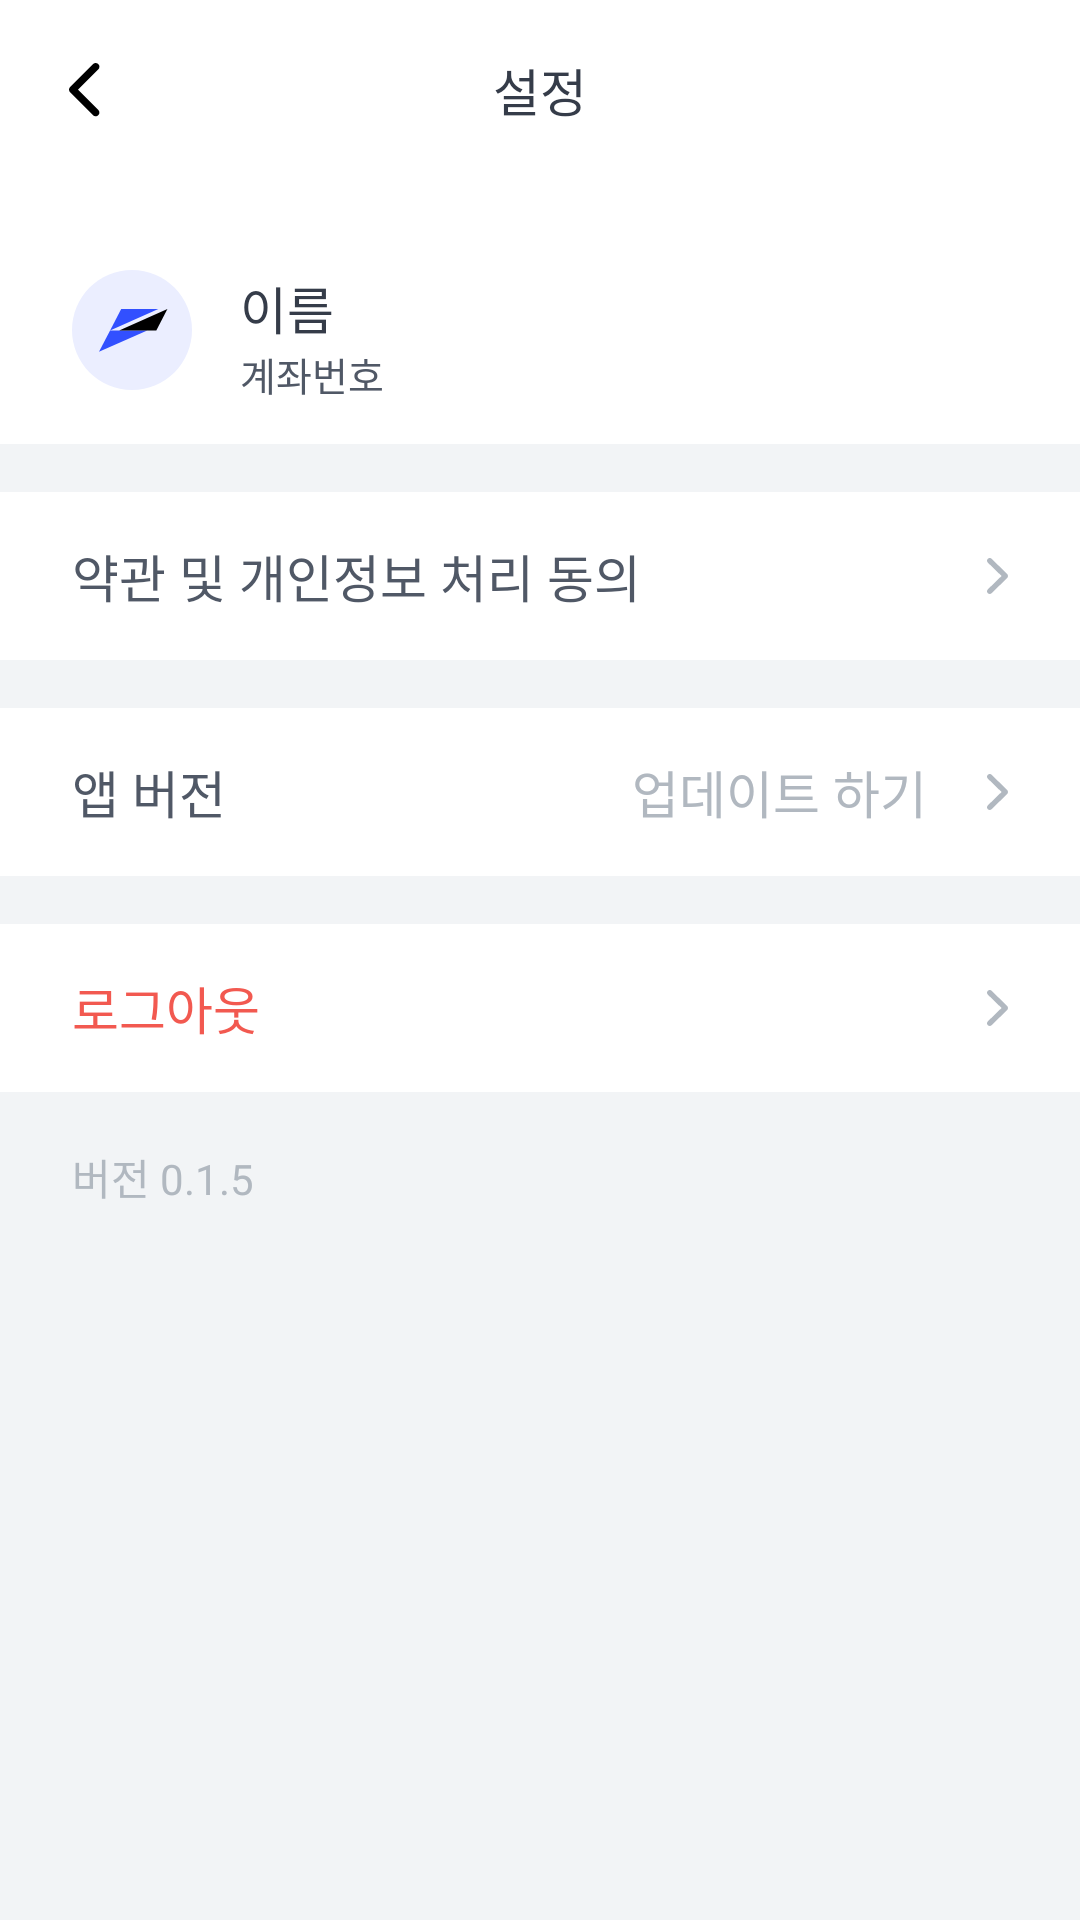

Icon bounding boxes for this 1080w x 1920h phone screenshot, format BBox(x1, y1, x2, y2):
arrow back: BBox(69, 63, 100, 117)
